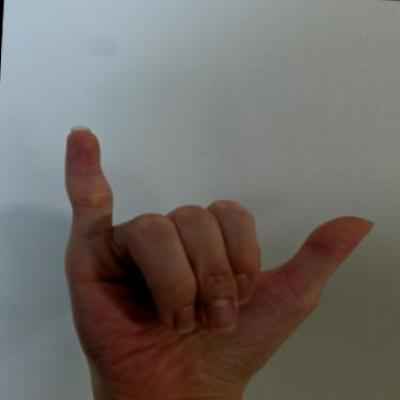hand: (50, 121, 386, 399)
